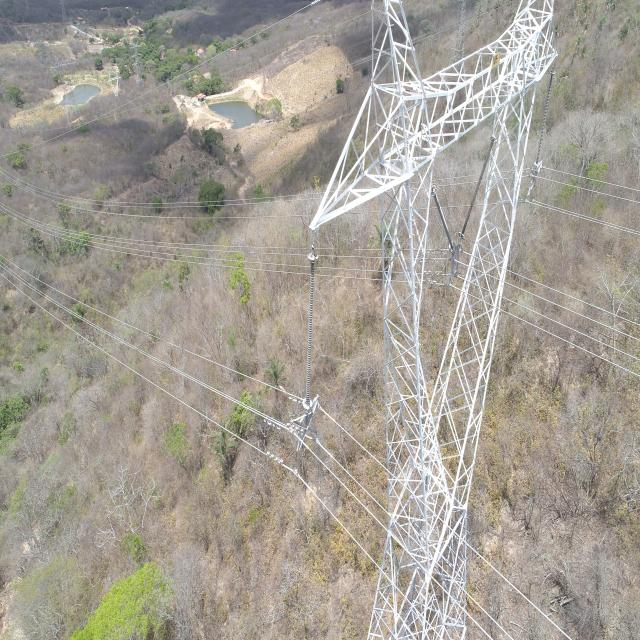杆塔: (310, 0, 555, 640)
正常电缆: (0, 275, 366, 563), (2, 4, 311, 168), (0, 258, 286, 432), (60, 288, 271, 394), (0, 208, 297, 275), (43, 221, 295, 268), (507, 308, 639, 382), (512, 297, 640, 364), (479, 550, 570, 640), (514, 282, 640, 344), (516, 269, 640, 329), (56, 199, 308, 222), (96, 190, 318, 209), (538, 200, 640, 238), (561, 181, 640, 205), (472, 595, 512, 640), (562, 171, 640, 193), (472, 617, 489, 639)
正常绝缘子: (532, 63, 558, 172), (302, 245, 318, 415)
